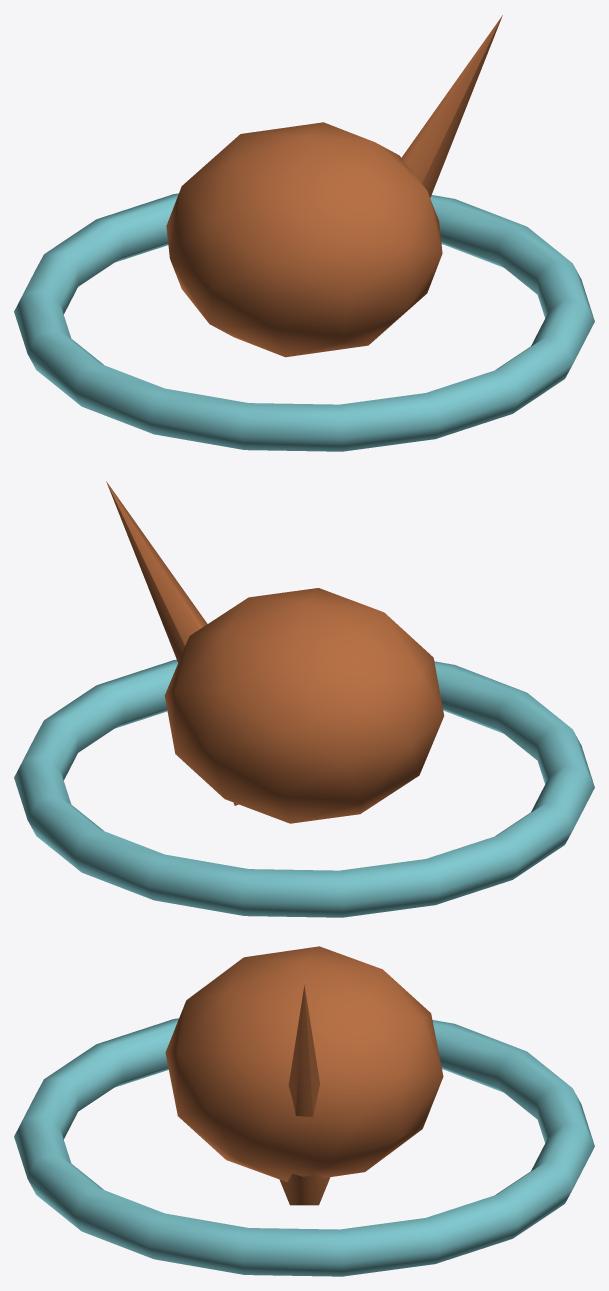
File: wpn_r_05.glb
The picture shows the model from 3 angles, top to bottom: view 1: azimuth 30°, elevation 25°; view 2: azimuth 150°, elevation 25°; view 3: azimuth 270°, elevation 25°; orthographic projection.
Parts seen in each view (by area): view 1: impact_core, impact_ring, impact_ray; view 2: impact_core, impact_ring, impact_ray; view 3: impact_core, impact_ring, impact_ray.
Part boxes in pixels (x1,y1,x2,y2): impact_core: [166, 122, 442, 357]; impact_ring: [14, 193, 594, 451]; impact_ray: [401, 15, 502, 197]; impact_core: [164, 588, 444, 823]; impact_ring: [14, 659, 594, 917]; impact_ray: [106, 481, 238, 805]; impact_core: [165, 946, 443, 1181]; impact_ring: [14, 1018, 594, 1276]; impact_ray: [279, 985, 330, 1205].
Size of the model in its own units: 0.9513 by 0.5231 by 0.9592.
